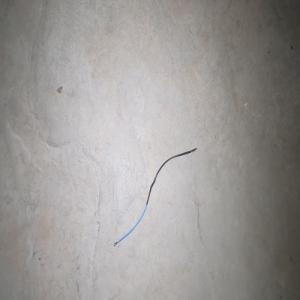Wire: (113, 147, 196, 246)
